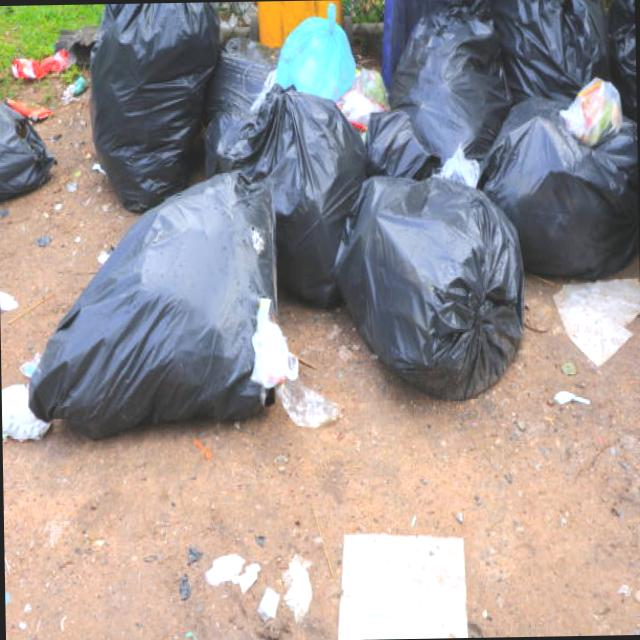garbage: (11, 0, 640, 438)
